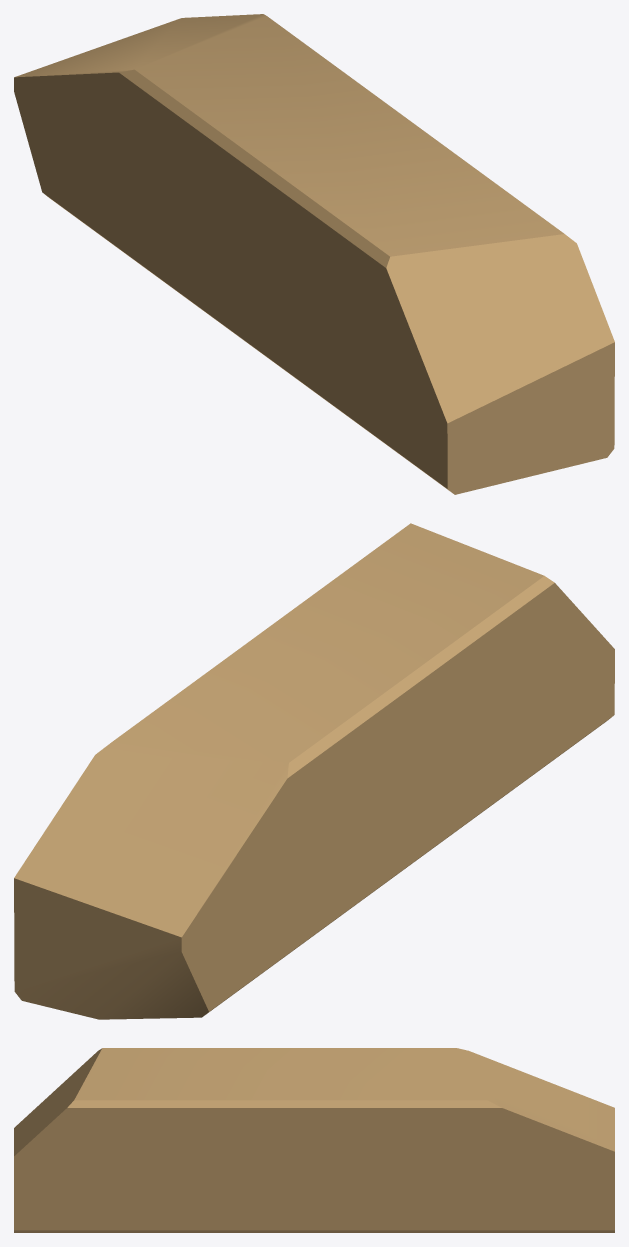
The model's file is BrokenRuin_Big_01.fbx.
3 renders of one model, top to bottom at view 1: azimuth 30°, elevation 25°; view 2: azimuth 150°, elevation 25°; view 3: azimuth 270°, elevation 25°, orthographic. The views are drawn at different scales.
Parts seen in each view (by area): view 1: BigChunk_01; view 2: BigChunk_01; view 3: BigChunk_01.
Part boxes in pixels (box(x1,y1,x2,y2)): BigChunk_01: box(14, 14, 614, 494); BigChunk_01: box(14, 523, 614, 1019); BigChunk_01: box(14, 1048, 614, 1232).
Size of the model in its own units: 194 by 211 by 863.
